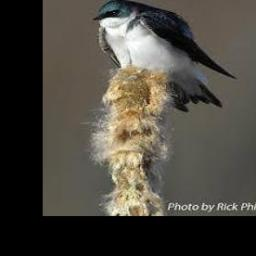Swallow: (89, 0, 237, 111)
